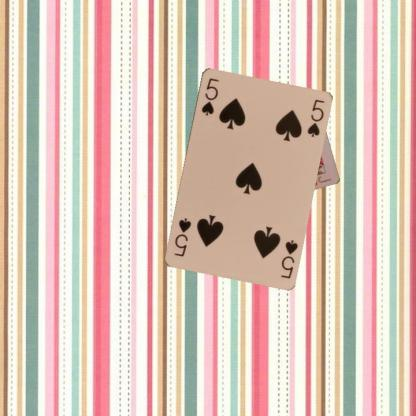5s: (198, 75, 220, 117), (278, 237, 299, 280)
